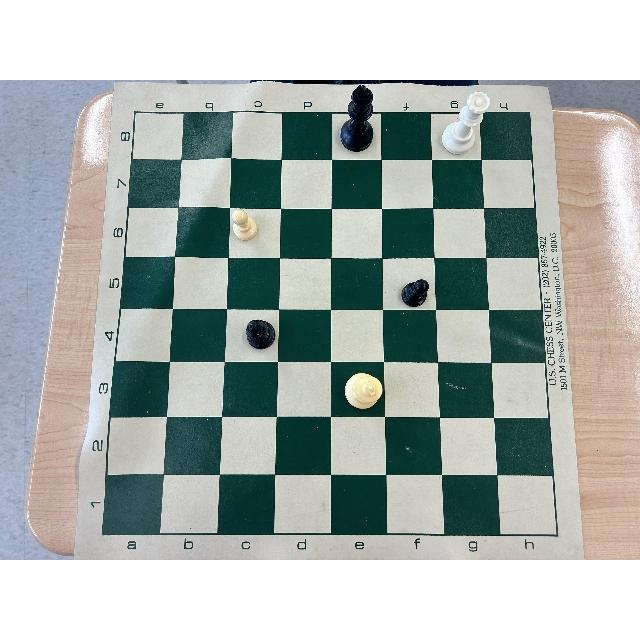black-bishop: (245, 318, 275, 349)
black-king: (340, 83, 374, 152)
black-pawn: (401, 279, 429, 307)
white-king: (344, 372, 383, 410)
white-pawn: (231, 208, 259, 239)
white-queen: (441, 91, 491, 154)
